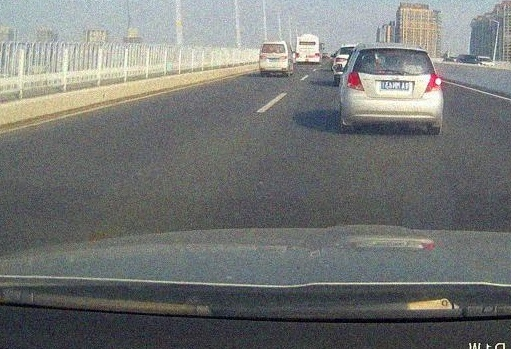L_light: (346, 70, 364, 90), (259, 55, 265, 59)
R_light: (425, 73, 442, 93), (281, 55, 287, 58)
T_light: (388, 49, 403, 51), (270, 44, 277, 45)
day-no: (344, 44, 443, 133), (259, 42, 288, 77)
